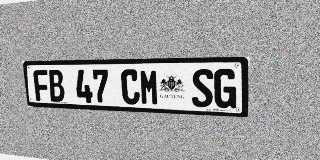4: (75, 70, 93, 103)
7: (91, 69, 110, 104)
B: (47, 70, 65, 102)
C: (120, 69, 140, 105)
F: (33, 70, 50, 101)
G: (214, 69, 237, 109)
M: (139, 69, 159, 106)
S: (192, 69, 213, 108)
